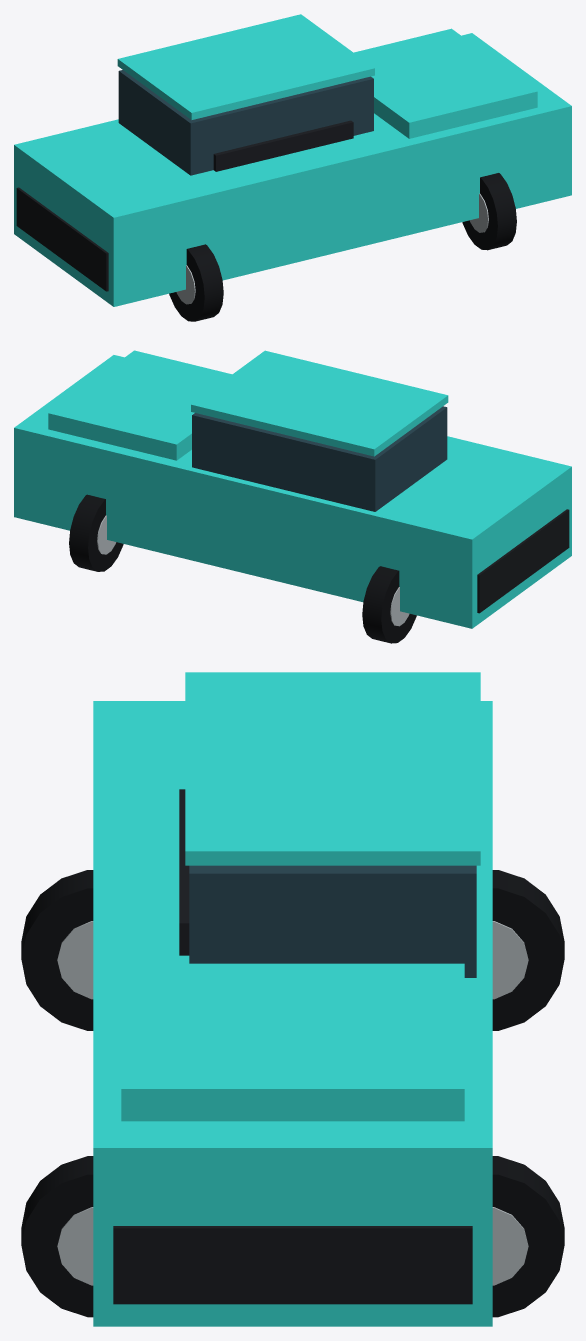
Rendered from ford_e_transit.glb.
3 views of the same model, one above another, from view 1: azimuth 30°, elevation 25°; view 2: azimuth 150°, elevation 25°; view 3: azimuth 270°, elevation 25° (orthographic). The views are drawn at different scales.
Parts seen in each view (by area): view 1: body, roof, hood, cabin, rear_bumper, rear_right_wheel, front_right_wheel, interior; view 2: body, roof, cabin, hood, rear_bumper, rear_left_wheel, front_left_wheel; view 3: body, roof, hood, cabin, front_bumper, front_left_wheel, front_right_wheel, rear_left_wheel, rear_right_wheel, interior.
Part boxes in pixels (x1,y1,x2,y2): body: [14, 33, 571, 306]; roof: [117, 14, 374, 119]; hood: [354, 28, 537, 138]; cabin: [118, 70, 373, 175]; rear_bumper: [16, 187, 108, 291]; rear_right_wheel: [169, 244, 223, 321]; front_right_wheel: [462, 173, 516, 250]; interior: [213, 120, 353, 171]; body: [14, 355, 571, 628]; roof: [191, 350, 448, 456]; cabin: [192, 406, 447, 511]; hood: [48, 350, 231, 460]; rear_bumper: [477, 509, 569, 613]; rear_left_wheel: [362, 566, 416, 643]; front_left_wheel: [69, 494, 123, 571]; body: [93, 701, 492, 1326]; roof: [185, 672, 480, 865]; hood: [121, 963, 464, 1121]; cabin: [189, 865, 476, 977]; front_bumper: [113, 1226, 472, 1304]; front_left_wheel: [492, 1156, 564, 1317]; front_right_wheel: [21, 1156, 93, 1317]; rear_left_wheel: [492, 870, 564, 1030]; rear_right_wheel: [21, 870, 93, 1030]; interior: [179, 789, 189, 955].
Bounding box in the file's own units: 5.35 × 2.03 × 2.72.
